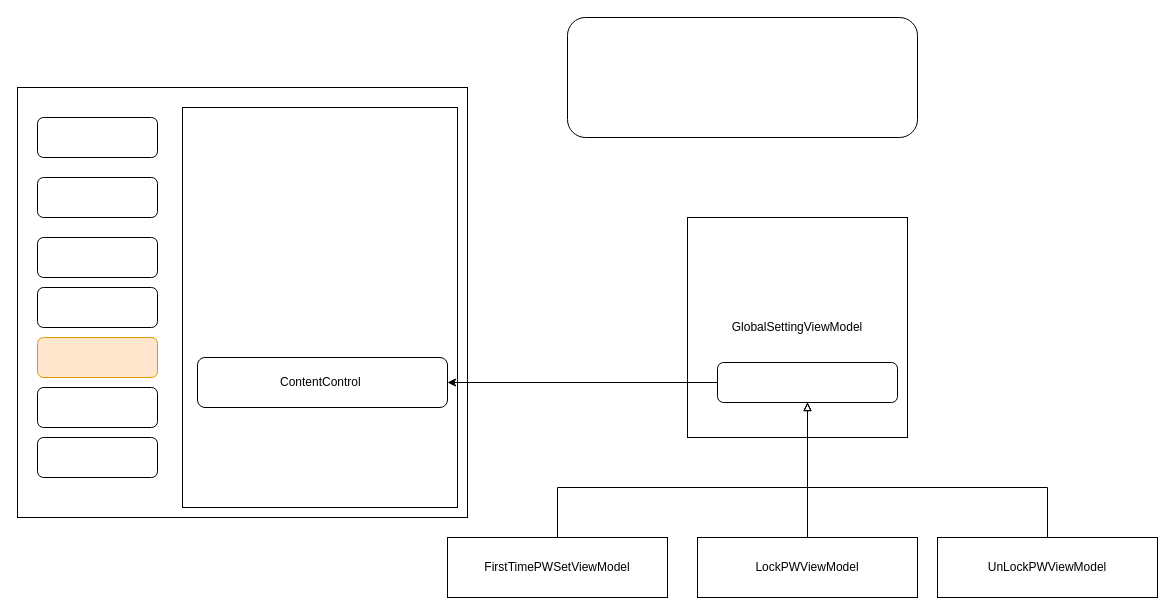
The diagram is 1175 pixels wide and 615 high, and some of its shapes have lost their labels. The shapes that lost their labels are listed below. From the top down, each one's centre as x and y in pixels, then its label:
At (742,77): "DateTemplates 1.FirstTimePWSetViewModel 2.LockPWViewModel 3.UnLockPWViewModel".
At (807,382): "EditErrorStateBaseViewModel".
